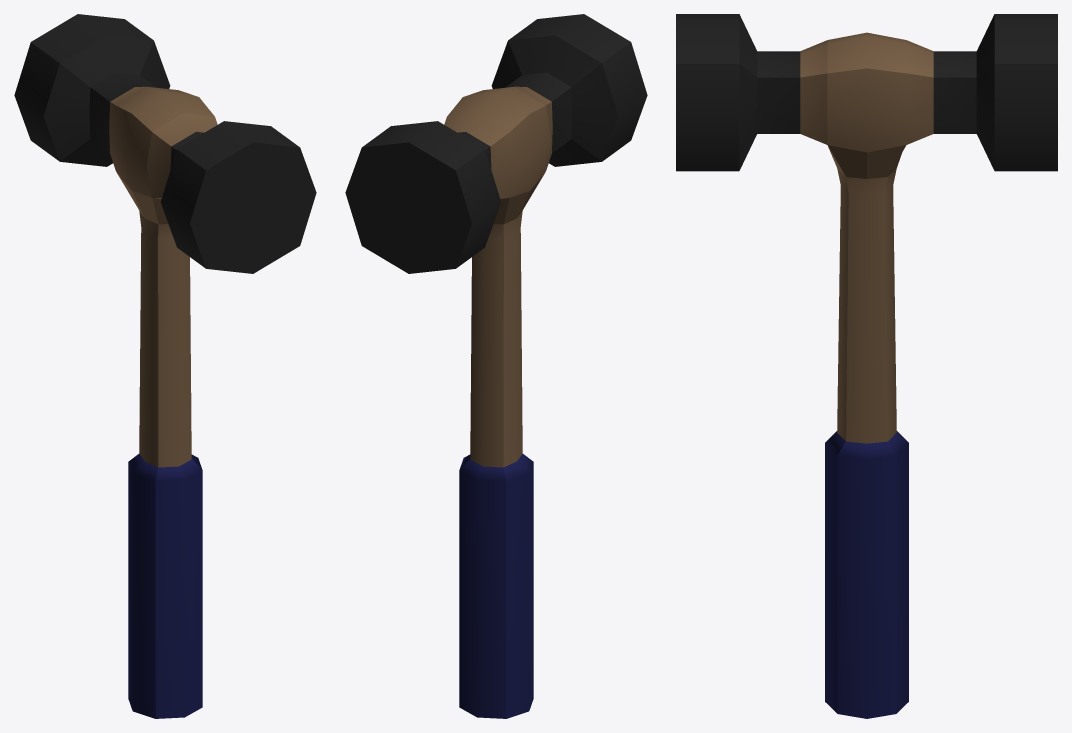
The model's file is HammerMeshModel.obj.
3 renders of one model, left to right at view 1: azimuth 30°, elevation 25°; view 2: azimuth 150°, elevation 25°; view 3: azimuth 270°, elevation 25°, orthographic. The views are drawn at different scales.
Visible parts, largest first — view 1: HammerMesh; view 2: HammerMesh; view 3: HammerMesh.
Part boxes in pixels (x1,y1,x2,y2): HammerMesh: (14, 14, 316, 718); HammerMesh: (345, 14, 647, 718); HammerMesh: (676, 14, 1057, 718).
Size of the model in its own units: 4.26 by 20.05 by 10.2.
